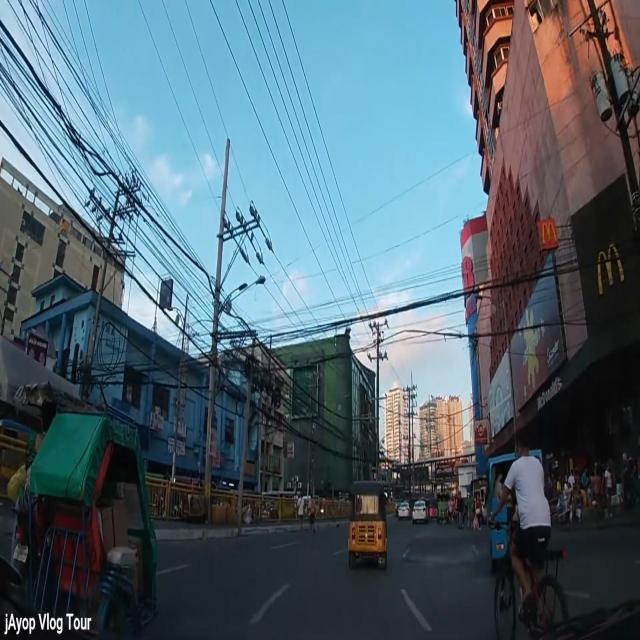bike: (494, 421, 567, 640)
car: (413, 501, 428, 523), (398, 500, 410, 520)
tricycle: (8, 381, 158, 640), (488, 450, 548, 568), (348, 479, 388, 568), (448, 497, 454, 524)
